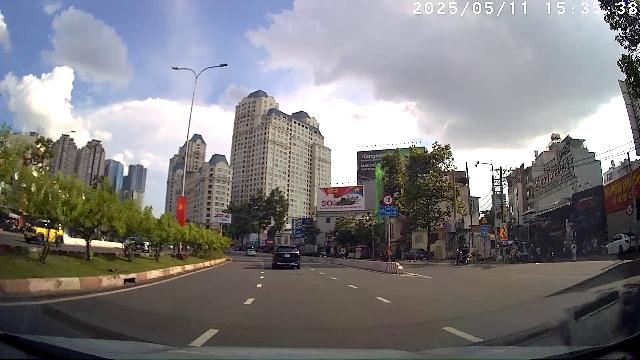127-toc-do-toi-da-70: (383, 194, 393, 205)
